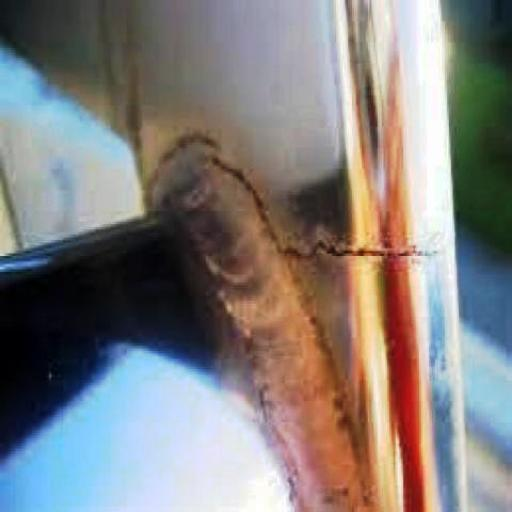crack: (279, 231, 451, 273)
